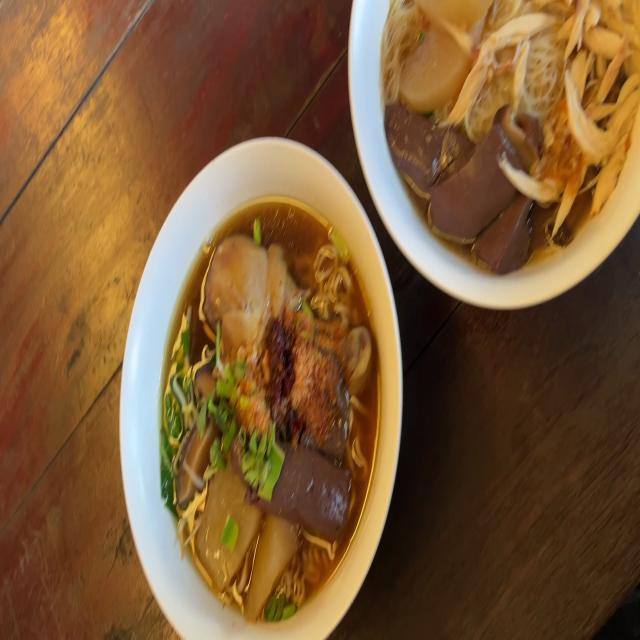boiled_chicken_blood_jelly: (389, 94, 544, 250), (272, 444, 350, 527)
chicken_drumstick: (209, 240, 371, 382)
chicken_shredded: (565, 0, 640, 198)
daikon_radish: (192, 466, 294, 597), (402, 0, 484, 103)
noodle: (154, 185, 384, 632), (370, 0, 640, 291)
